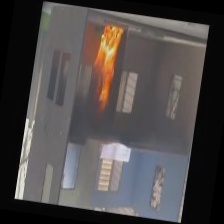fire: (80, 21, 127, 117)
